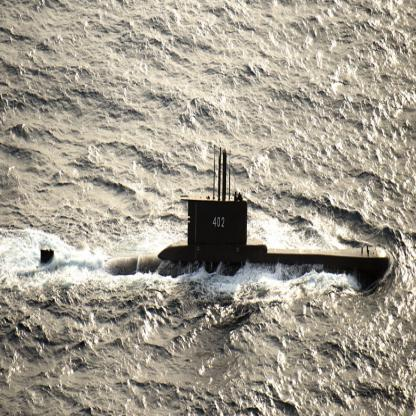Submarine: (40, 144, 394, 288)
